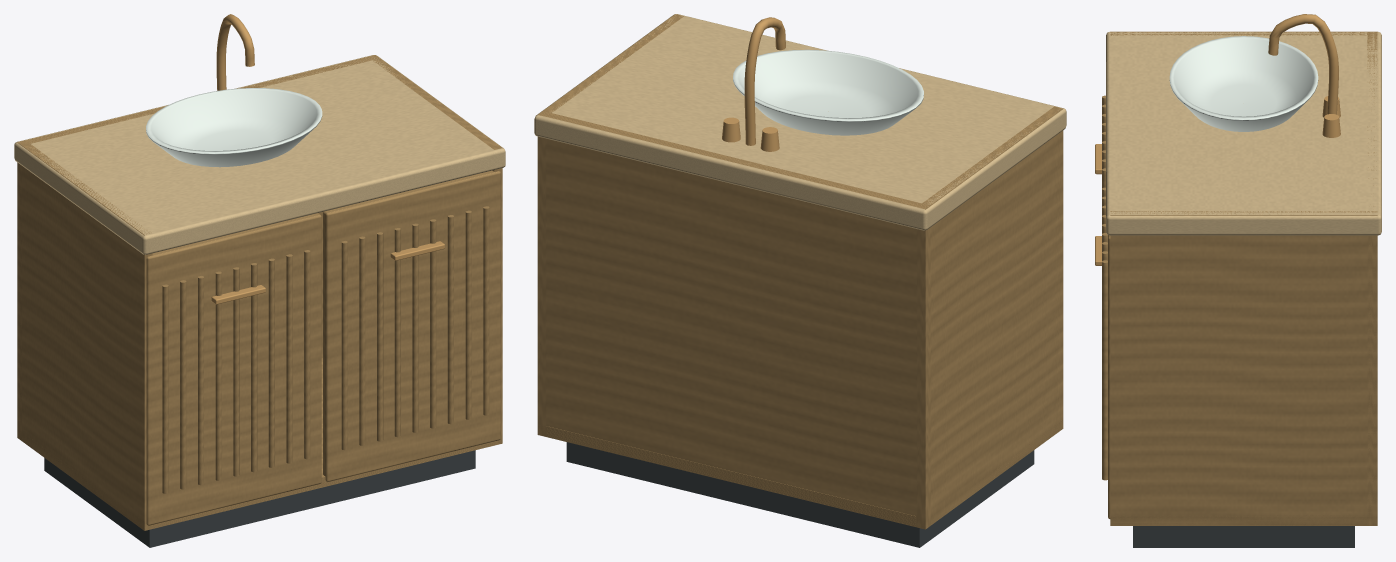
File: sink_veranda-51a0d078e357.glb
3 views of the same model, side by side, from view 1: azimuth 30°, elevation 25°; view 2: azimuth 150°, elevation 25°; view 3: azimuth 270°, elevation 25° (orthographic). The views are drawn at different scales.
Parts seen in each view (by area): view 1: surface_bamboo, surface_plaster, surface_porcelain, surface_graphite, surface_brass; view 2: surface_bamboo, surface_plaster, surface_porcelain, surface_graphite, surface_brass; view 3: surface_bamboo, surface_plaster, surface_porcelain, surface_graphite, surface_brass.
Boxes of the visible parts, <box> form: surface_bamboo: <box>17,55,502,530</box>; surface_plaster: <box>14,55,505,254</box>; surface_porcelain: <box>146,88,322,167</box>; surface_graphite: <box>44,450,475,547</box>; surface_brass: <box>211,14,444,304</box>; surface_bamboo: <box>537,14,1063,529</box>; surface_plaster: <box>534,14,1066,230</box>; surface_porcelain: <box>733,49,923,135</box>; surface_graphite: <box>566,442,1034,547</box>; surface_brass: <box>722,17,785,151</box>; surface_bamboo: <box>1102,31,1377,525</box>; surface_plaster: <box>1106,32,1381,235</box>; surface_porcelain: <box>1169,36,1318,131</box>; surface_graphite: <box>1133,526,1354,547</box>; surface_brass: <box>1095,14,1340,265</box>.
Size of the model in its own units: 1.05 by 1.19 by 0.6861.
Materials: 5 (2 with a texture image).
